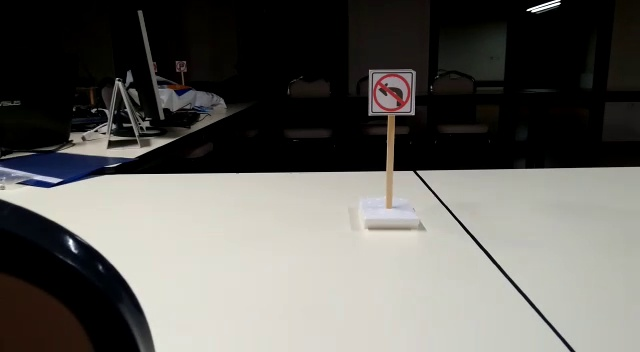sola_donulmez: (369, 69, 411, 112)
